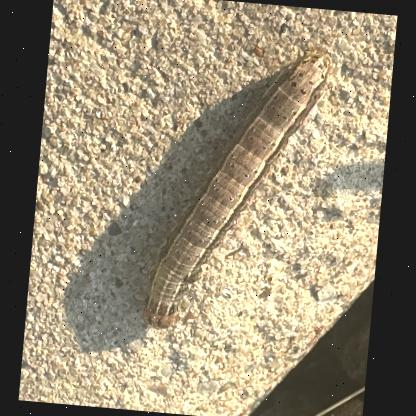Fall Armyworm Larvae: (135, 32, 338, 346)
